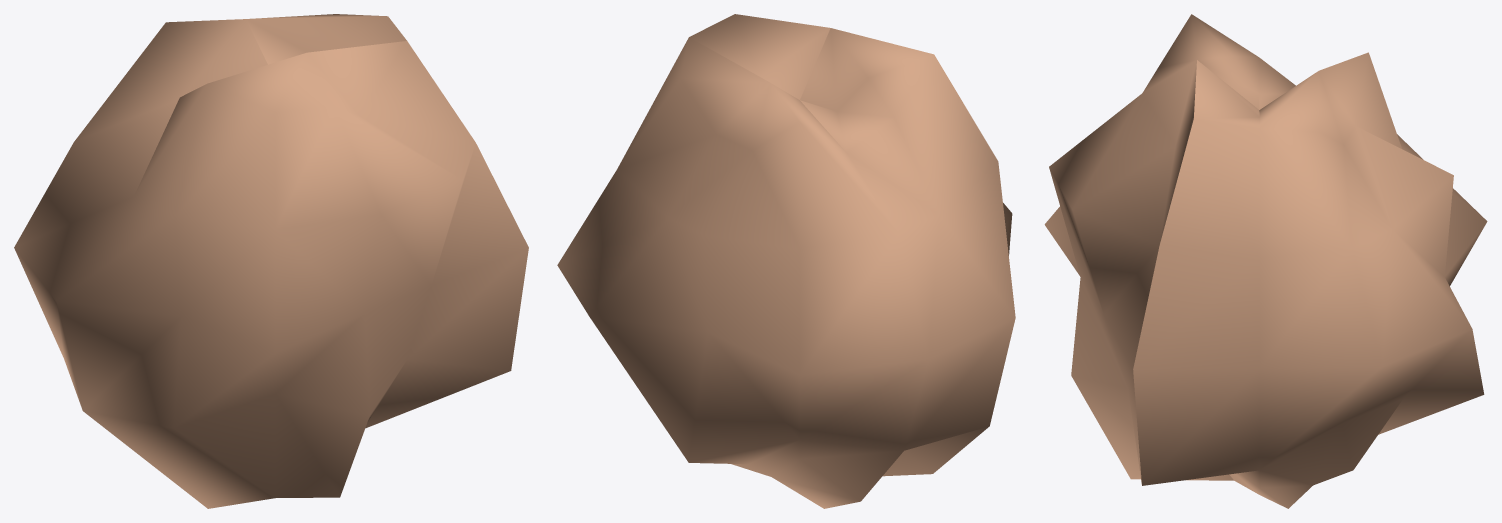
Rendered from rock_013.fbx.
The picture shows the model from 3 angles, left to right: view 1: azimuth 30°, elevation 25°; view 2: azimuth 150°, elevation 25°; view 3: azimuth 270°, elevation 25°; orthographic projection.
Visible parts, largest first — view 1: Rock; view 2: Rock; view 3: Rock.
Boxes of the visible parts, <box> form: Rock: <box>14,14,528,508</box>; Rock: <box>557,14,1015,508</box>; Rock: <box>1044,14,1487,508</box>.
Bounding box in the file's own units: 3.42 × 3.57 × 3.22.
